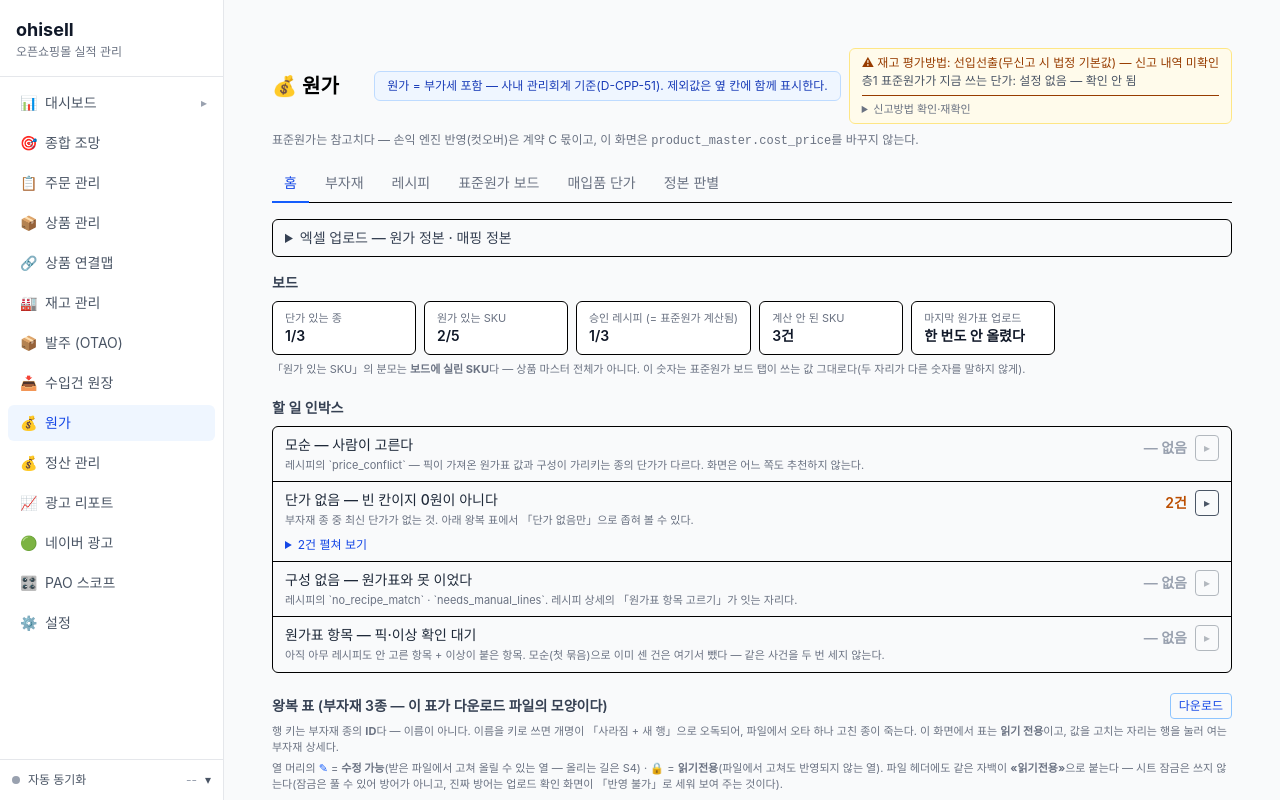
Test case: ★정본 판별이 사람에게 닿는 경로 (계약 D-CPP-64 §4 S2) › ★보류 행이 「—」로 서고 사유·소관이 화면에 있다 — 이게 S2-②의 마지막 한 칸이다
Check: the heading "💰 원가" is shown, box [272,72,339,100]
Click the button "정본 판별" at (691,184), box [652,165,731,203]
(page scrolled)
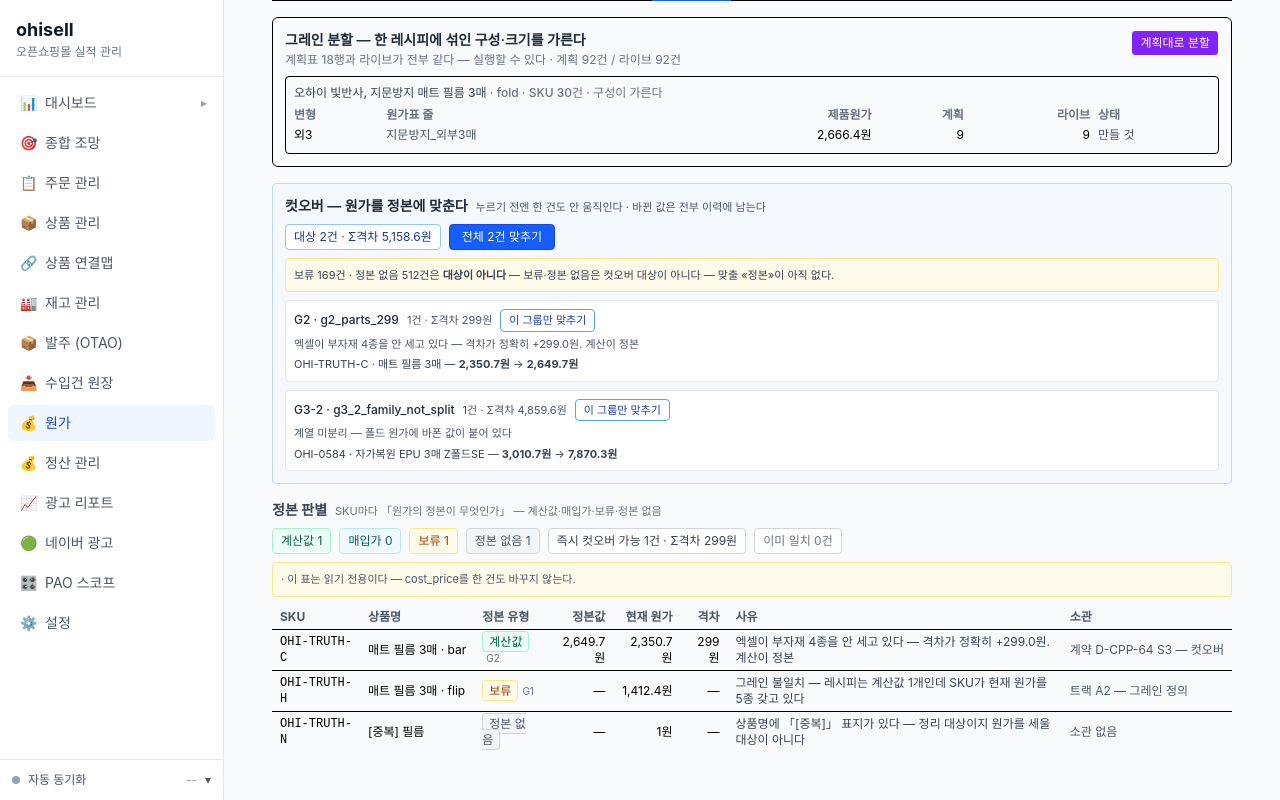
Check: the cell with test id "cost-truth-value-OHI-TRUTH-H" reads "—", box [593,683,605,698]
Check: the cell with test id "cost-truth-gap-OHI-TRUTH-H" reads "—", box [708,683,720,698]
Check: the cell with test id "cost-truth-reason-OHI-TRUTH-H" shows "그레인 불일치", box [736,675,1047,706]
